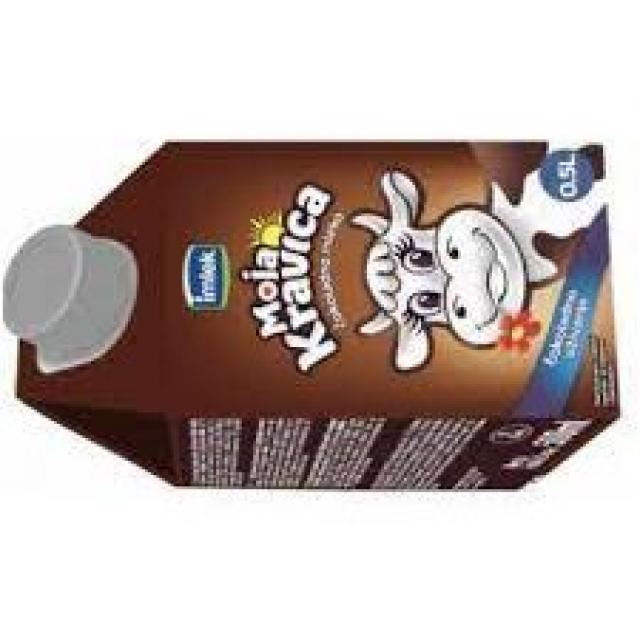non_white_jug: (0, 136, 624, 496)
